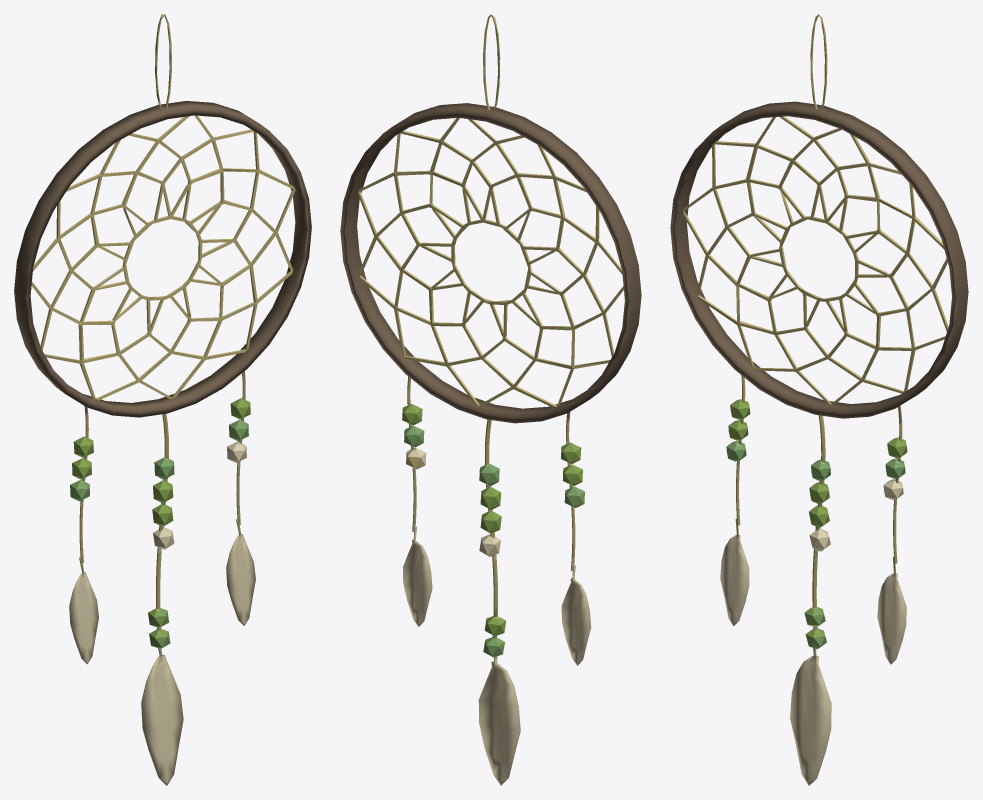
Rendered from DreamCatcher.fbx.
3 views of the same model, side by side, from view 1: azimuth 30°, elevation 25°; view 2: azimuth 150°, elevation 25°; view 3: azimuth 330°, elevation 25° (orthographic).
Parts seen in each view (by area): view 1: Circle.002; view 2: Circle.002; view 3: Circle.002.
Boxes of the visible parts, left/top/right/bottom form: Circle.002: left=14, top=14, right=311, bottom=785; Circle.002: left=340, top=14, right=641, bottom=785; Circle.002: left=670, top=14, right=968, bottom=785.
Bounding box in the file's own units: 405 × 1028 × 30.69.
Materials: 1 (1 with a texture image).
